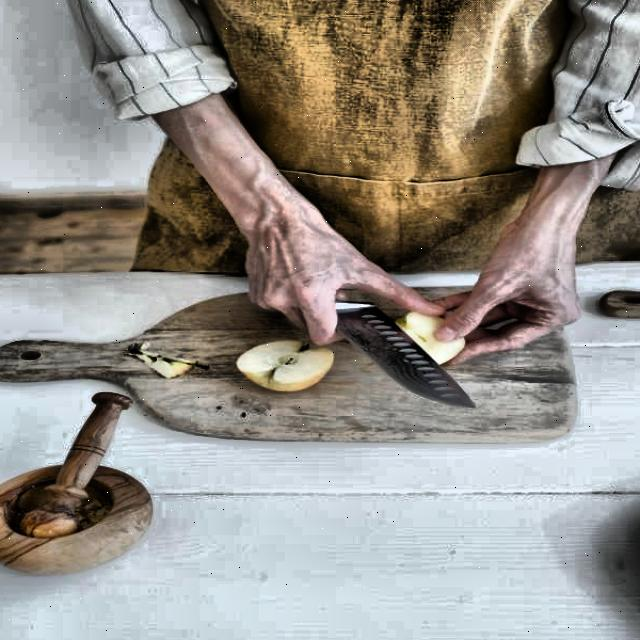knife: (314, 289, 482, 412)
